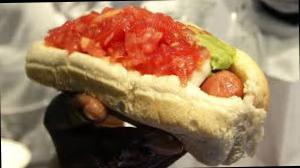Completos: (20, 0, 269, 163)
